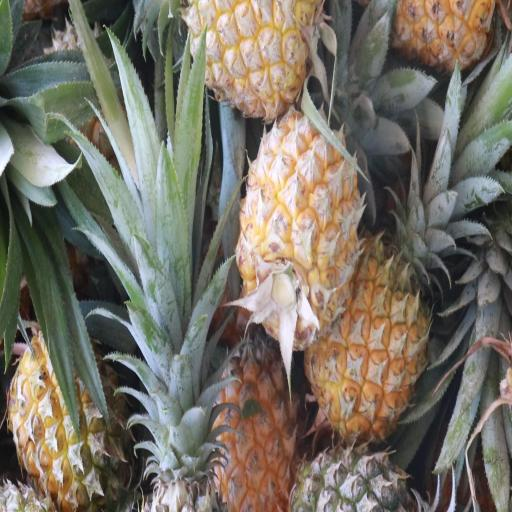------------------------------: (6, 316, 126, 508)
Pineapple - v8 v1: (238, 108, 358, 345), (308, 238, 428, 438), (207, 324, 301, 512), (184, 0, 312, 120)
